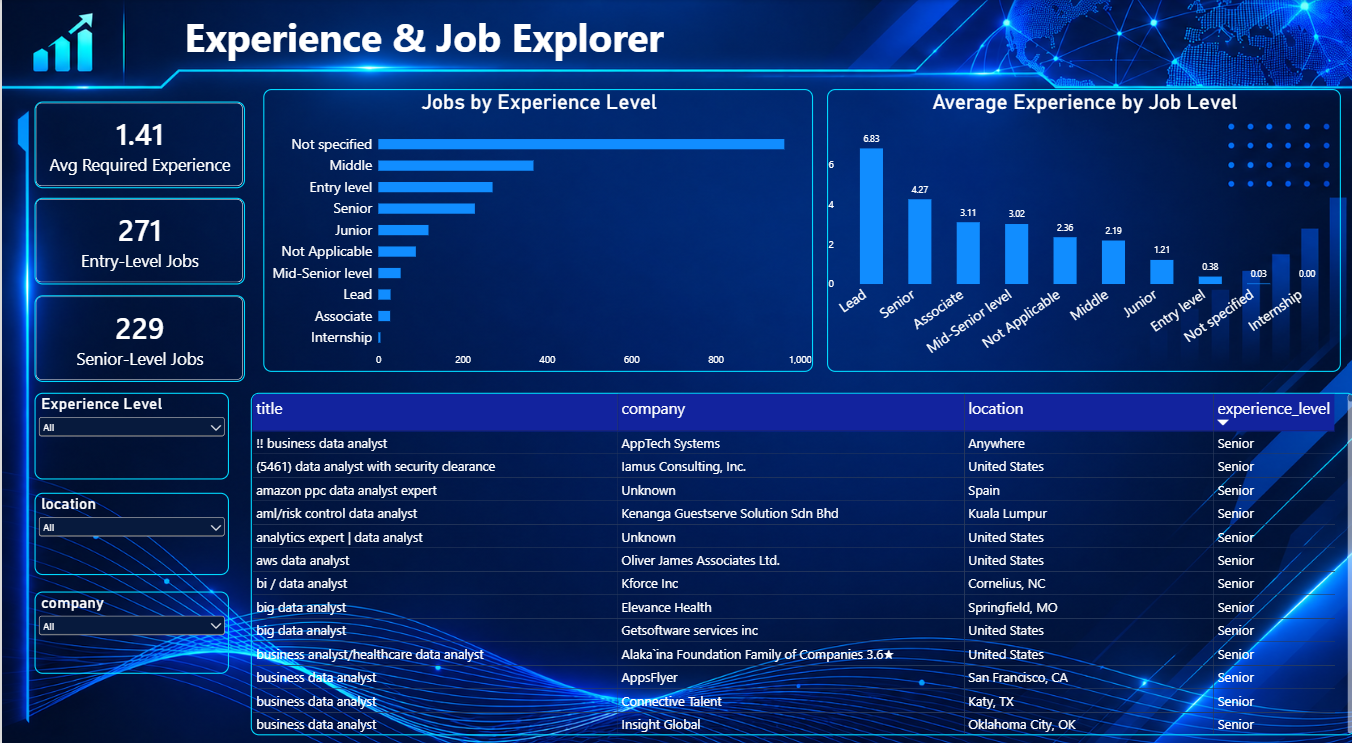

The dashboard page shown, as its layout file describes it:
{"tool":"powerbi","page":{"name":"Experience & Jobs","canvas":[1960,1080],"ordinal":3},"visuals":[{"type":"textbox","box":[232.6,16.5,1177.4,86.4],"z":0},{"type":"cardVisual","title":"Average Required Experience","fields":{"Data":["Avg(vacancies_cleaned.experience_years)"]},"box":[47.3,148.2,304.6,125.6],"z":1},{"type":"cardVisual","fields":{"Data":["CountNonNull(vacancies_cleaned.experience_level)"]},"box":[47.3,288.2,304.6,125.6],"z":2},{"type":"cardVisual","fields":{"Data":["CountNonNull(vacancies_cleaned.experience_level)"]},"box":[47.3,428.1,304.6,125.6],"z":3},{"type":"slicer","fields":{"Values":["vacancies_cleaned.experience_level"]},"box":[47.3,570.2,282,125.6],"z":4},{"type":"slicer","fields":{"Values":["vacancies_cleaned.location"]},"box":[47.3,714.2,282,119.4],"z":5},{"type":"slicer","fields":{"Values":["vacancies_cleaned.company"]},"box":[47.3,858.3,282,119.4],"z":6},{"type":"clusteredBarChart","title":"Jobs by Experience Level","fields":{"Category":["vacancies_cleaned.experience_level"],"Y":["CountNonNull(vacancies_cleaned.id)"]},"box":[378.2,130.3,796.4,409.7],"z":7},{"type":"clusteredColumnChart","title":"Average Experience by Job Level","fields":{"Category":["vacancies_cleaned.experience_level"],"Y":["Avg(vacancies_cleaned.experience_years)"]},"box":[1193.5,130.3,743.8,409.7],"z":8},{"type":"tableEx","fields":{"Values":["vacancies_cleaned.title","vacancies_cleaned.company","vacancies_cleaned.location","vacancies_cleaned.experience_level"]},"box":[359.3,569.4,1601.1,495.9],"z":9}]}

Visuals, with their boxes in screenshot pixels (x1, y1, x2, y2), scaled from the page's 1960x1080 canvas onto the 1352x743 screenshot:
textbox: [160, 11, 973, 71]
"Average Required Experience" cardVisual: [33, 102, 243, 188]
cardVisual - CountNonNull(vacancies_cleaned.experience_level): [33, 198, 243, 285]
cardVisual - CountNonNull(vacancies_cleaned.experience_level): [33, 295, 243, 381]
slicer - vacancies_cleaned.experience_level: [33, 392, 227, 479]
slicer - vacancies_cleaned.location: [33, 491, 227, 573]
slicer - vacancies_cleaned.company: [33, 590, 227, 673]
"Jobs by Experience Level" clusteredBarChart: [261, 90, 810, 372]
"Average Experience by Job Level" clusteredColumnChart: [823, 90, 1336, 372]
tableEx - vacancies_cleaned.title x vacancies_cleaned.company: [248, 392, 1351, 733]
